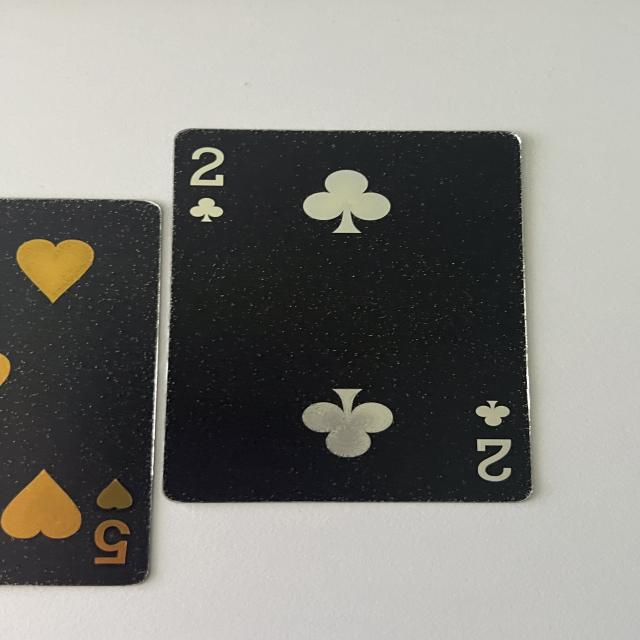2C: (466, 395, 522, 494), (180, 145, 237, 230)
5H: (89, 477, 137, 571)
